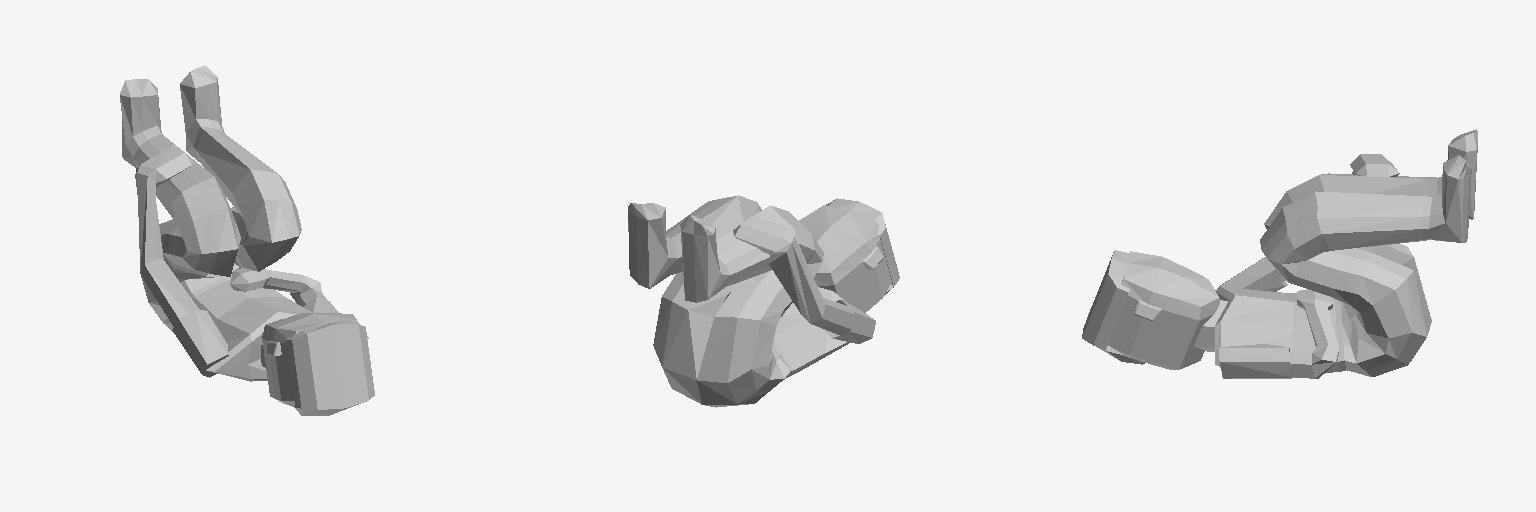
Rendered from footballPlayer3D.obj.
The picture shows the model from 3 angles: view 1: azimuth 30°, elevation 25°; view 2: azimuth 150°, elevation 25°; view 3: azimuth 270°, elevation 25°; orthographic projection.
Bounding box in the file's own units: 490 × 621 × 986.